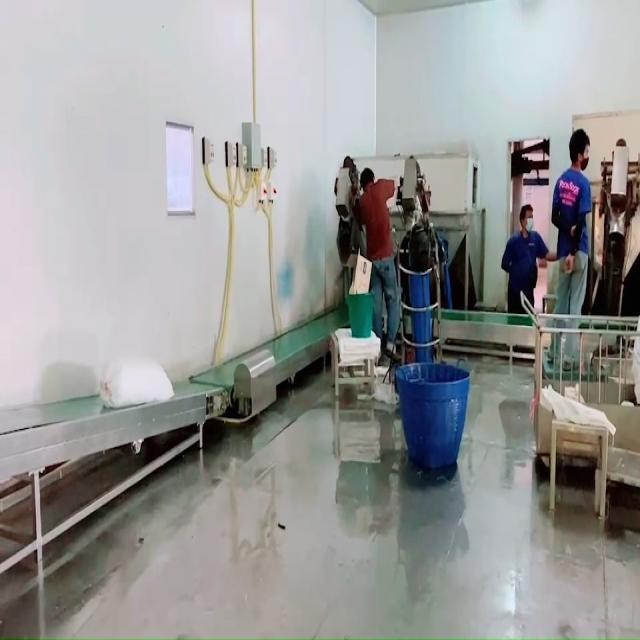ice-bag: (96, 356, 178, 419)
